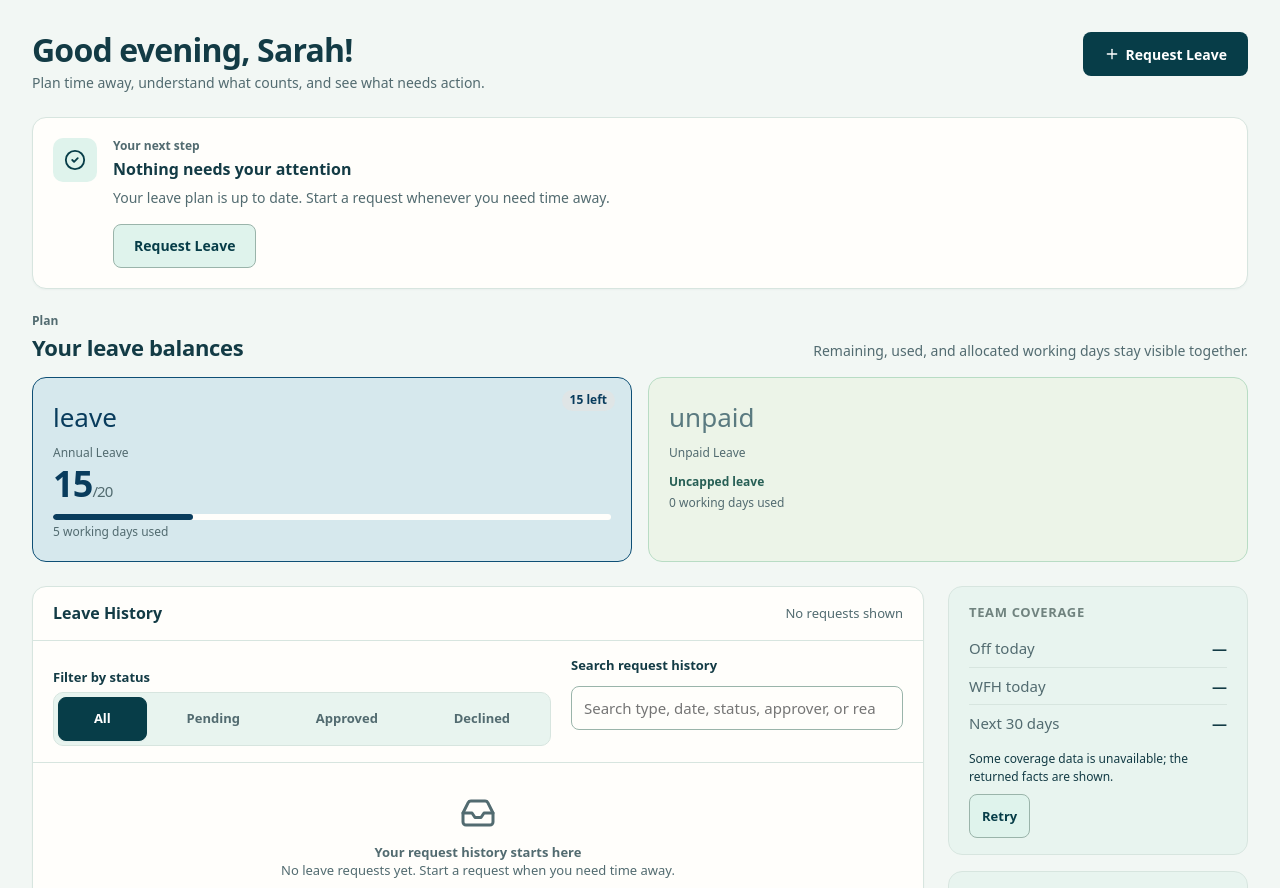
it: MyLeavesPage › [P1] refreshes history and shows the existing toast after shared modal submit
Click the button with test id "request-leave-btn" at {"x": 1165, "y": 54}, box [1083, 32, 1248, 76]
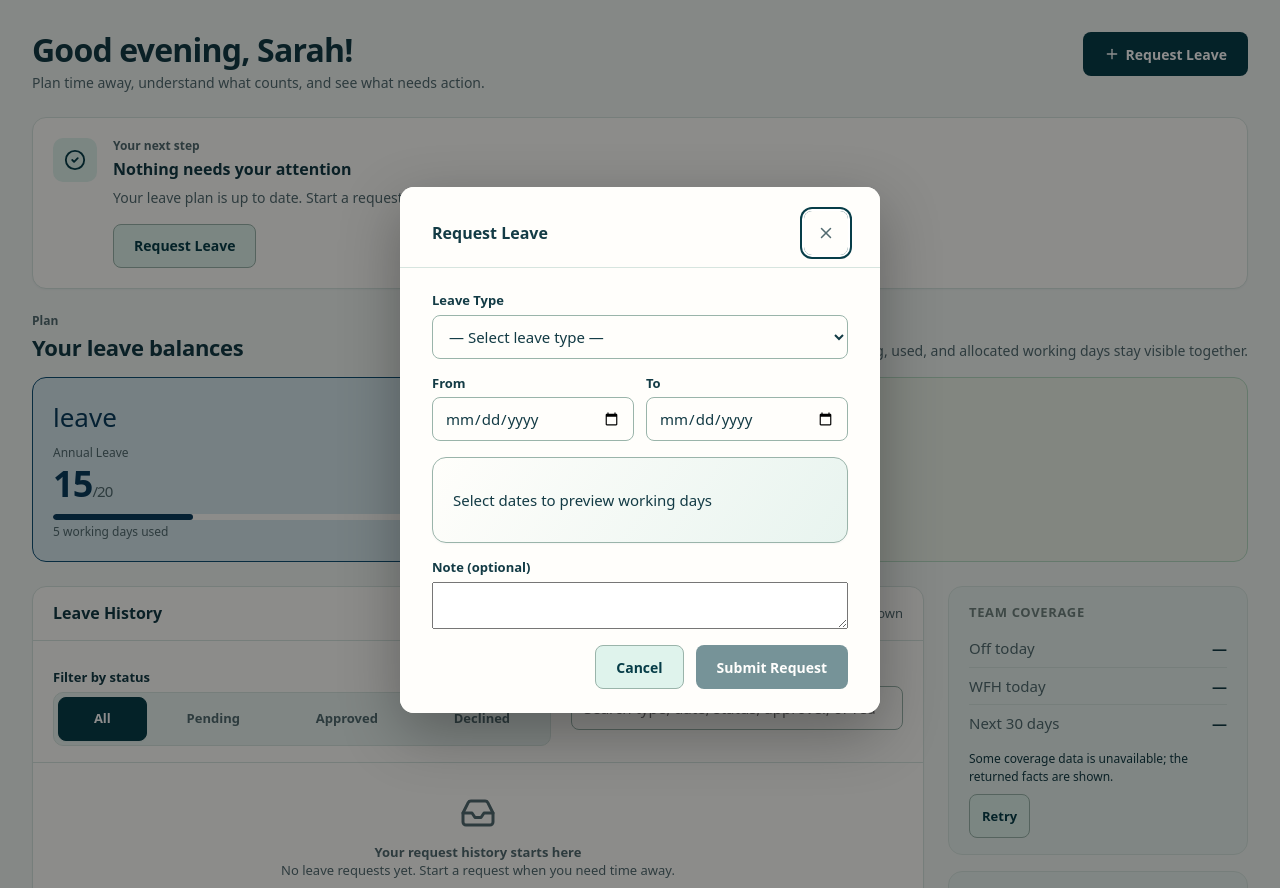
Select "leave Annual Leave" in the dropdown labelled "Leave Type" at {"x": 640, "y": 336}, box [432, 314, 848, 358]
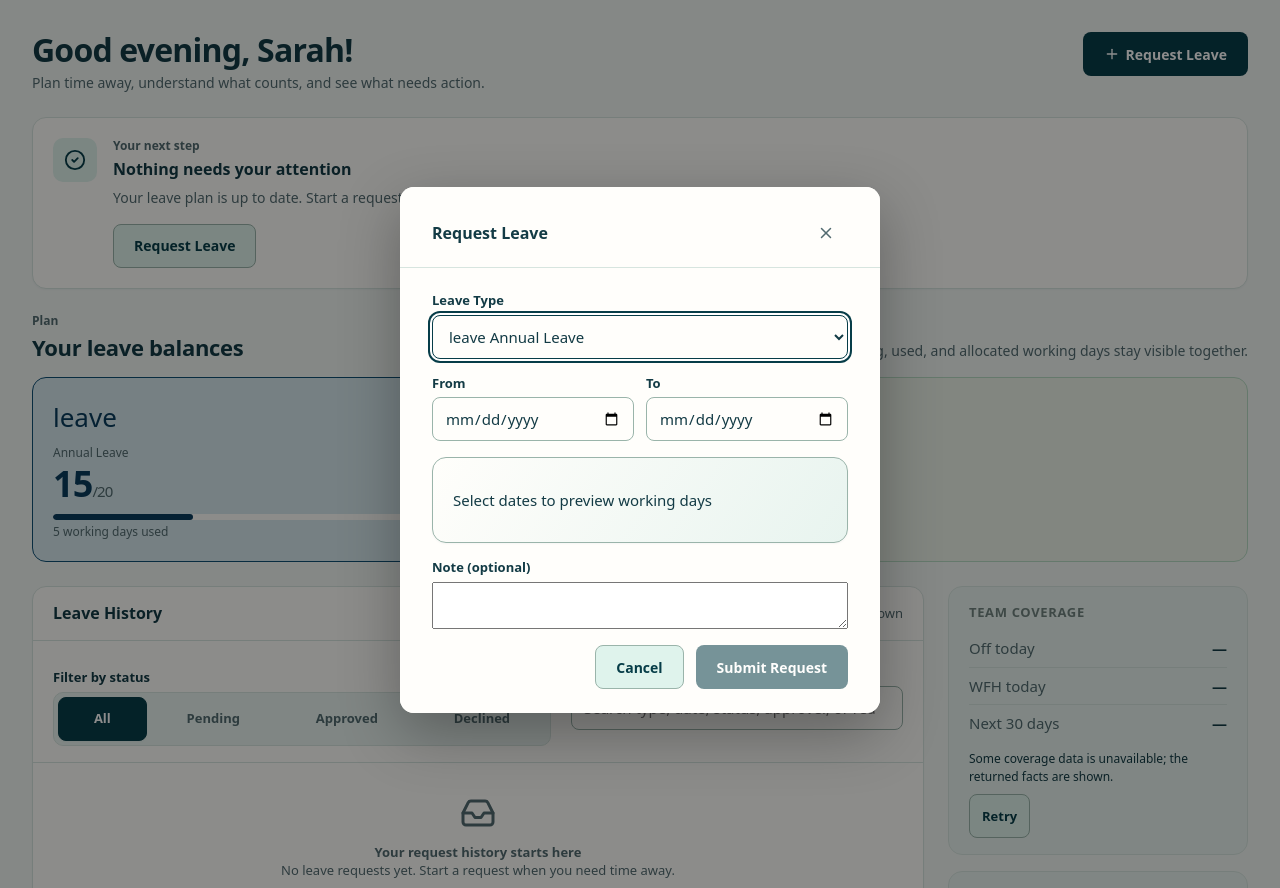
Type "2026-08-03" into the date field with test id "leave-from-date" at {"x": 533, "y": 419}, box [432, 397, 634, 441]
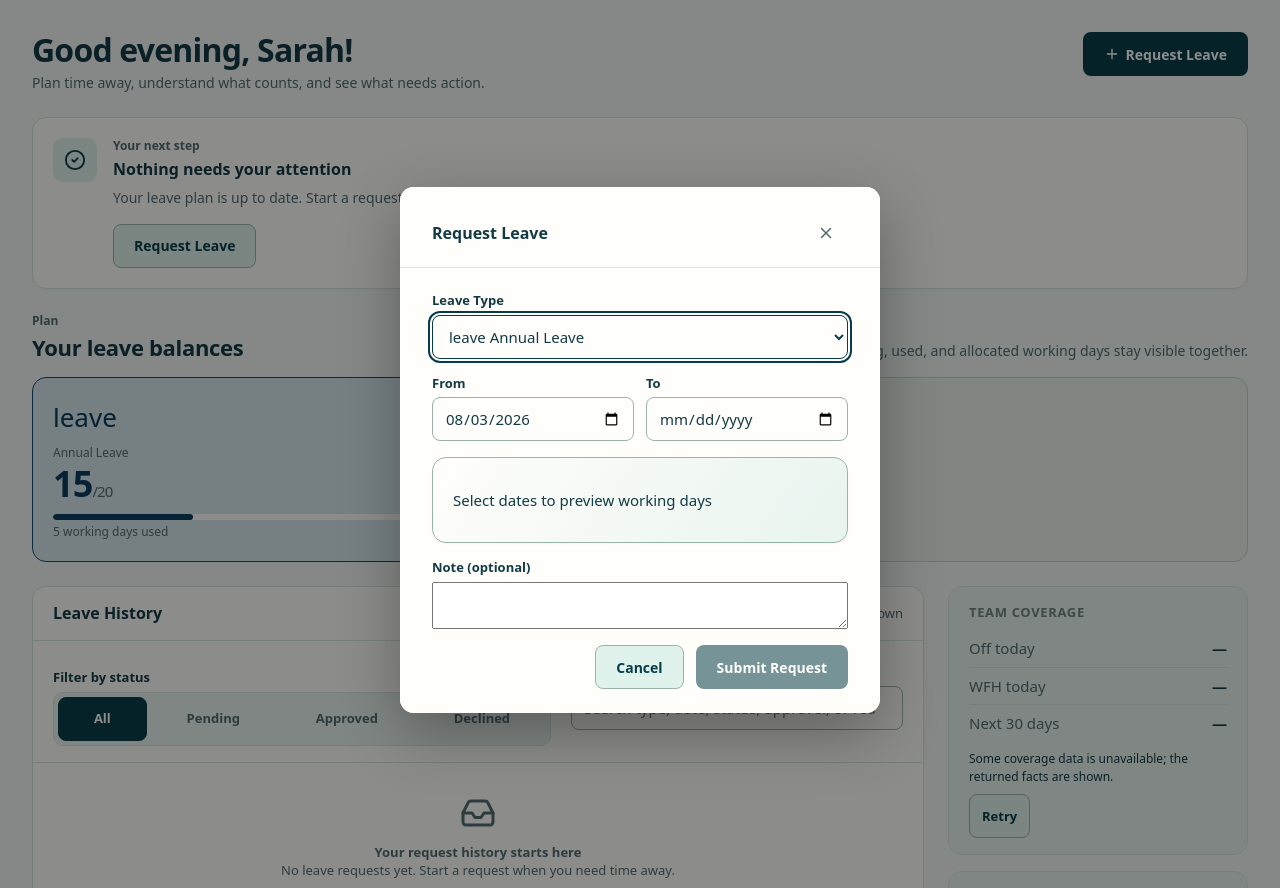
Type "2026-08-07" into the date field with test id "leave-to-date" at {"x": 747, "y": 419}, box [646, 397, 848, 441]
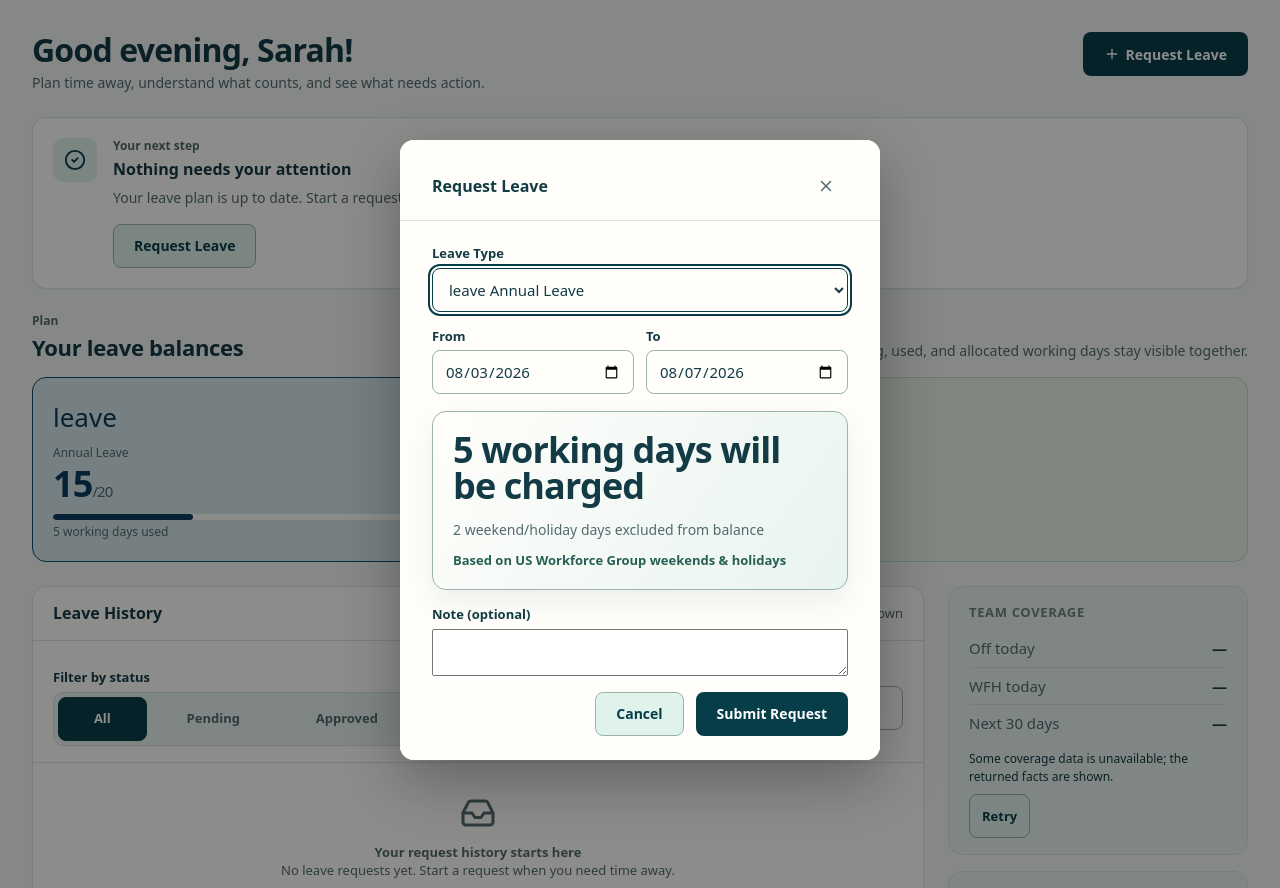
Expected: the button with test id "submit-request-btn" is enabled
Click the button with test id "submit-request-btn" at {"x": 772, "y": 714}, box [696, 692, 848, 736]
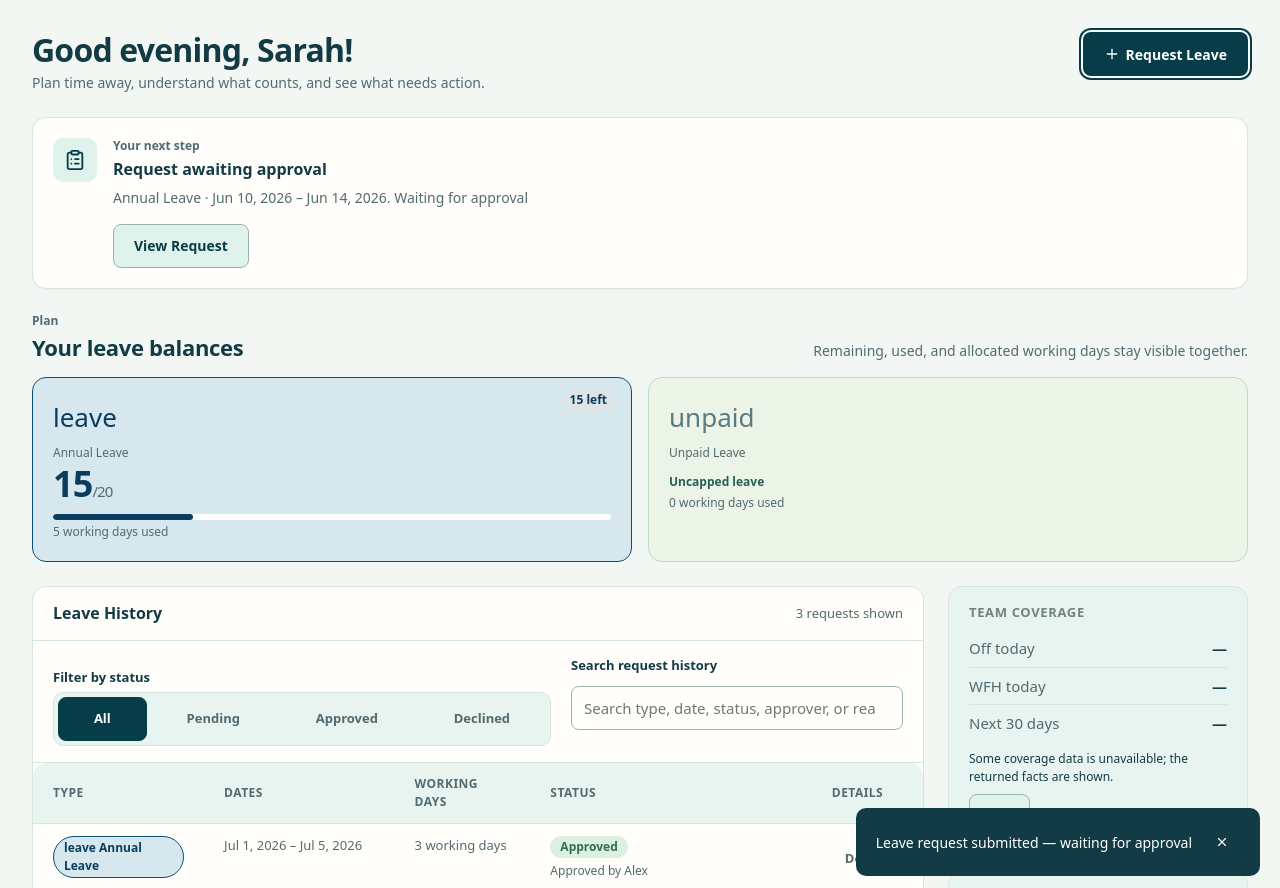
Expected: the message with test id "app-toast" shows "Leave request submitted", [876, 832, 1192, 852]
